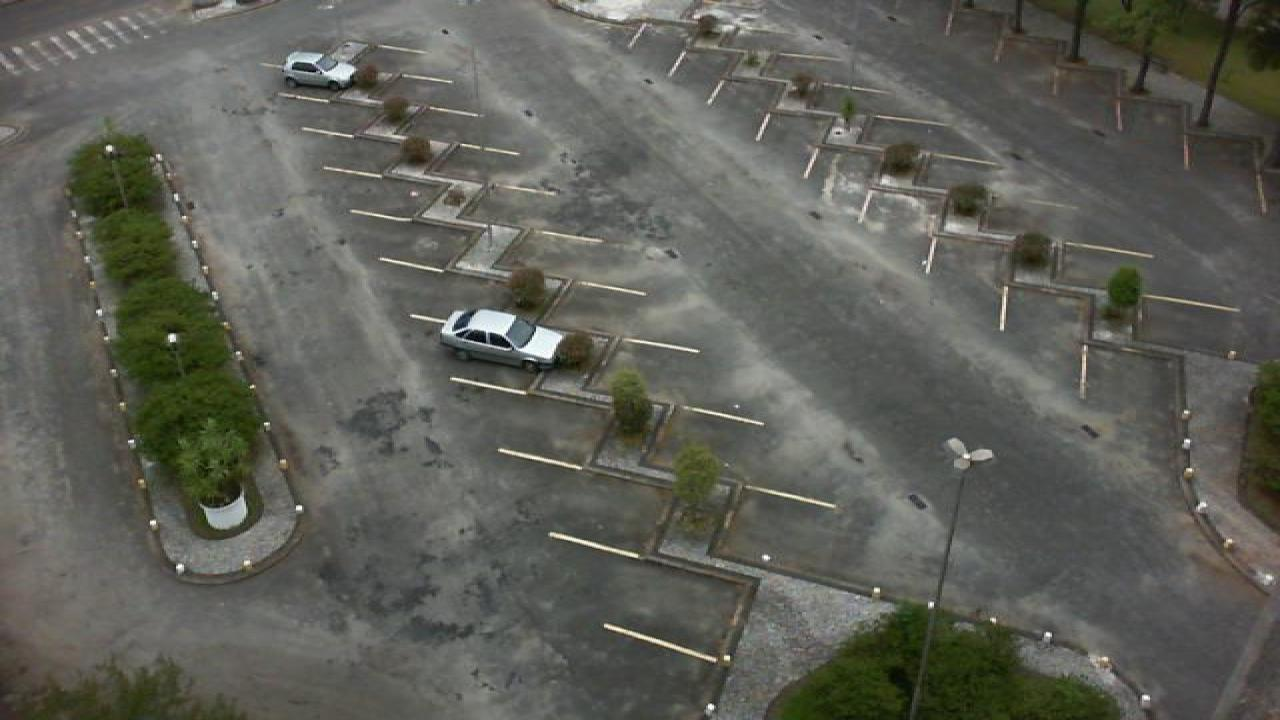Car: (438, 307, 570, 370), (284, 39, 370, 90)
